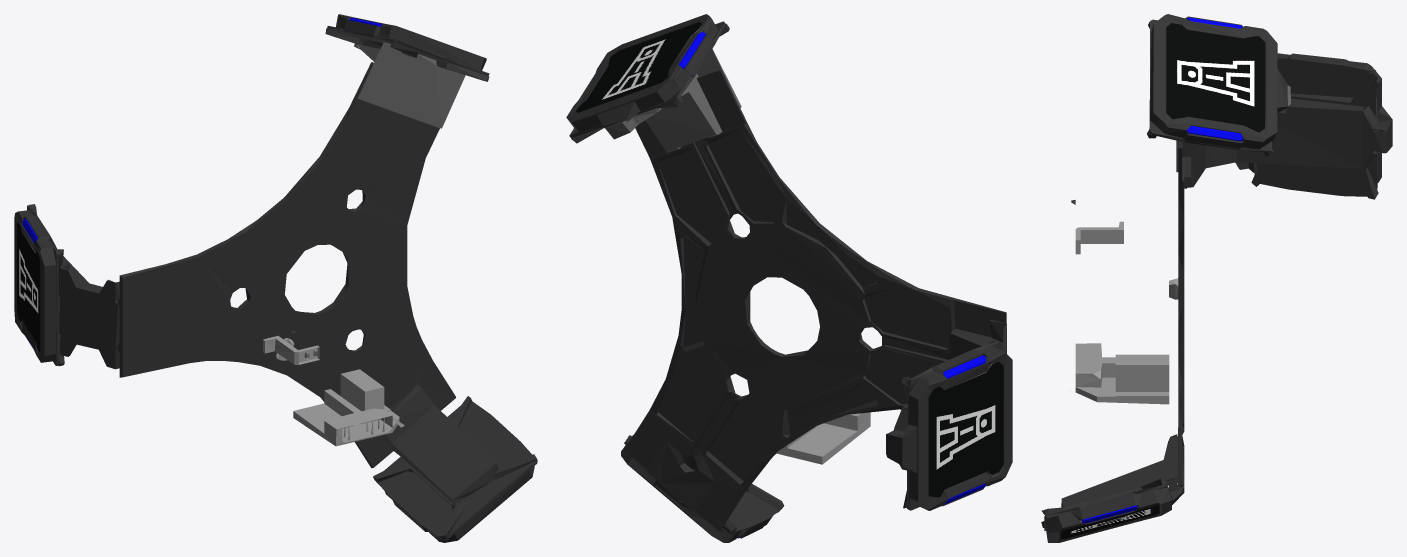
The model's file is rotor_visual.glb.
The picture shows the model from 3 angles, left to right: view 1: azimuth 30°, elevation 25°; view 2: azimuth 150°, elevation 25°; view 3: azimuth 270°, elevation 25°; orthographic projection. The views are drawn at different scales.
Parts seen in each view (by area): view 1: rotor_visual; view 2: rotor_visual; view 3: rotor_visual.
Boxes of the visible parts, x1=… form: rotor_visual: x1=14, y1=14, x2=537, y2=542; rotor_visual: x1=566, y1=14, x2=1012, y2=542; rotor_visual: x1=1041, y1=14, x2=1392, y2=542.
Bounding box in the file's own units: 0.4926 × 0.5659 × 0.3414.
20 materials, 1 textured.
